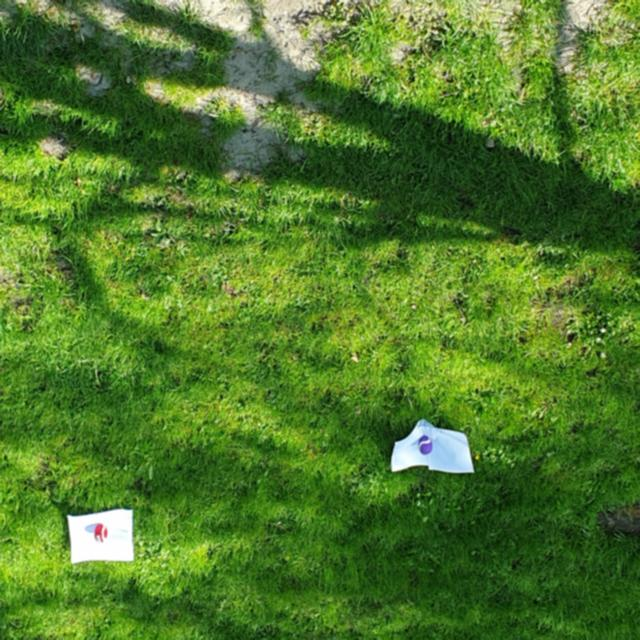purple: (418, 437, 433, 456)
red: (94, 524, 108, 543)
